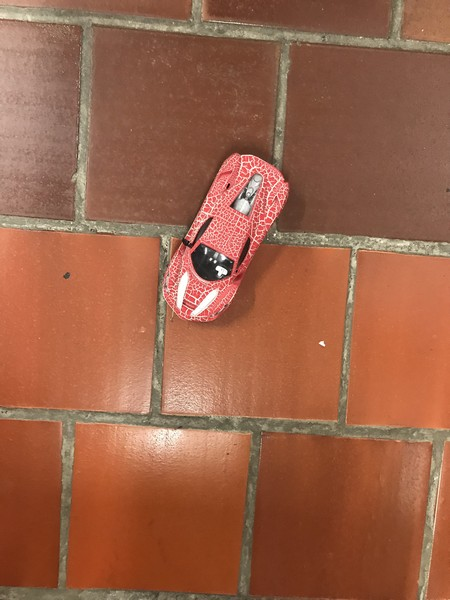RC: (160, 149, 290, 328)
